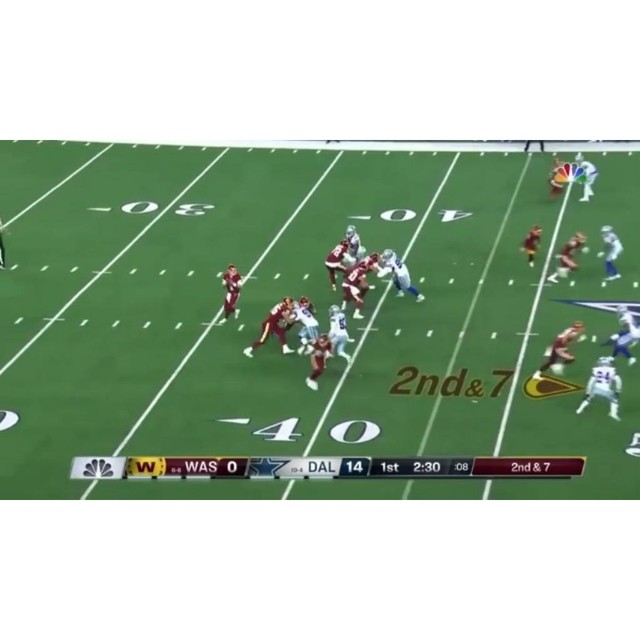american-football-player: (533, 320, 587, 380), (243, 297, 294, 359), (575, 356, 622, 420), (602, 305, 640, 367), (381, 249, 425, 302), (548, 232, 589, 284), (303, 333, 334, 390), (289, 297, 320, 351), (341, 261, 370, 318), (598, 224, 625, 282), (324, 238, 352, 291), (327, 305, 353, 362), (219, 264, 244, 323), (572, 152, 600, 203), (545, 156, 570, 201), (518, 224, 543, 268), (345, 225, 367, 264)
referee: (0, 206, 9, 269)
